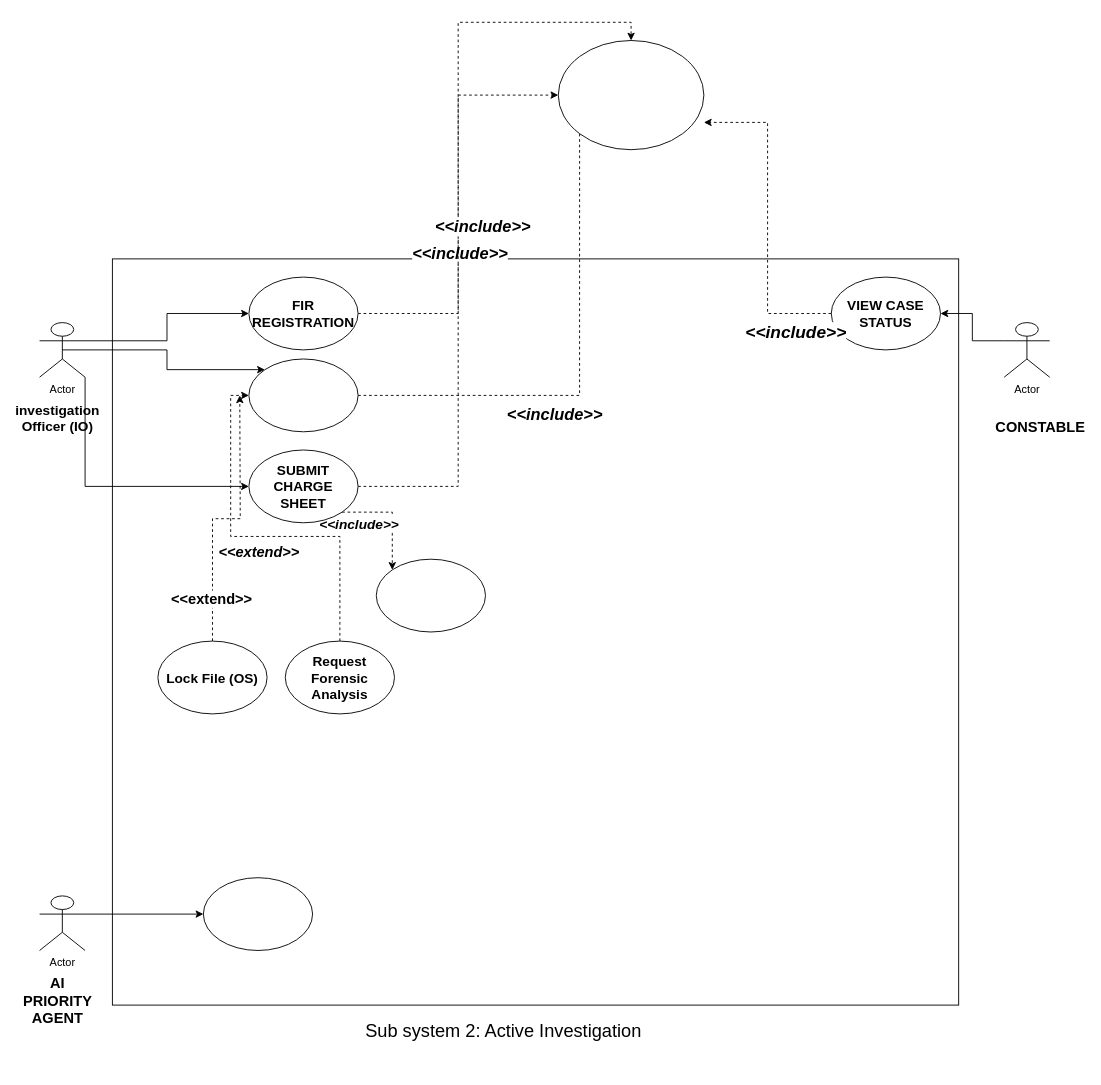
The diagram is 1101 pixels wide and 1085 high, and some of its shapes have lost their labels. The centre of each missing label's shape, as x and y in pixels:
"AUTHENTICATE OFFICER <<shared infrastructure>>" belongs at pixel 630 95.
"CALCULATE CASE PRIORITY" belongs at pixel 257 913.
"GENERATE LEGAL REPORT" belongs at pixel 430 595.
"LOG & SECURE EVIDENCE" belongs at pixel 303 395.
